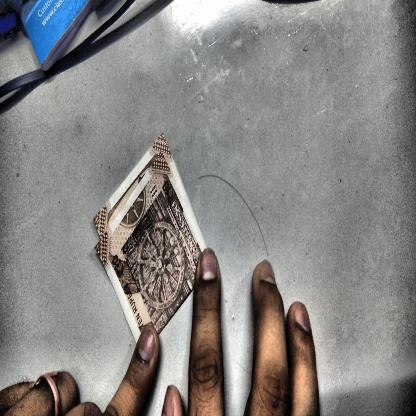Rs10: (159, 174, 177, 207)
